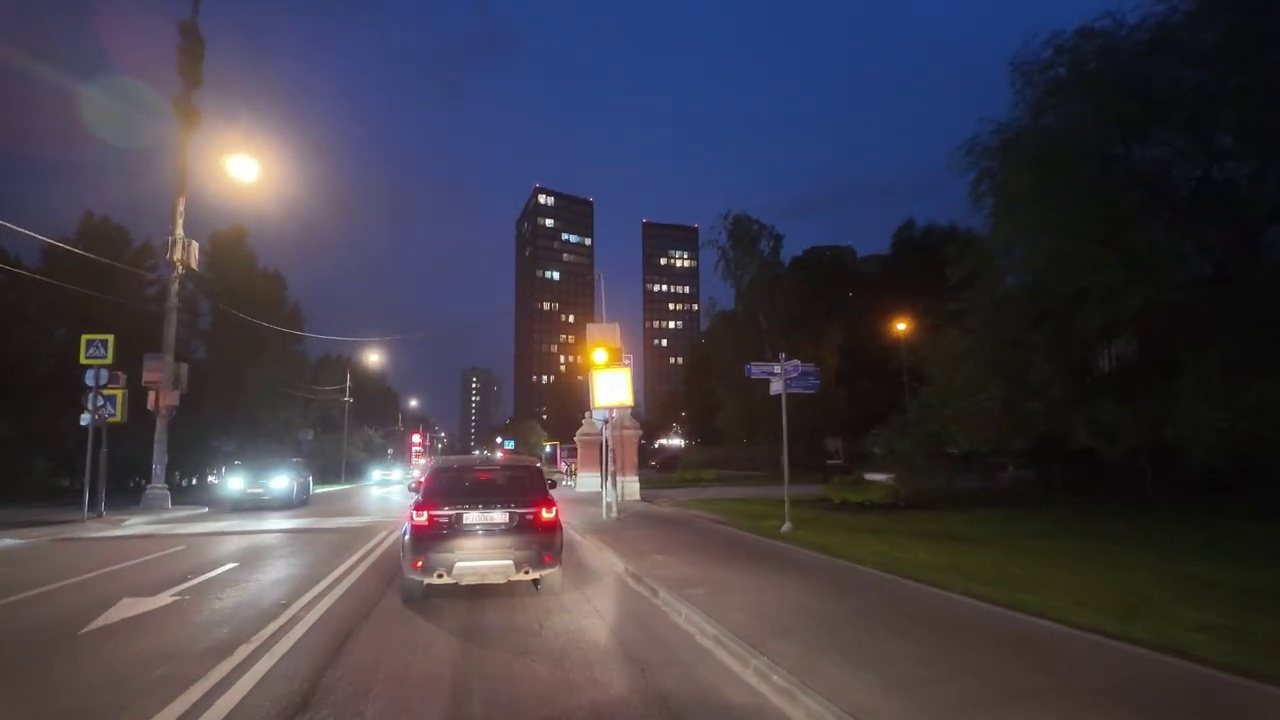acesa: (209, 142, 270, 199), (576, 336, 627, 393), (579, 337, 622, 374), (357, 345, 388, 373)
